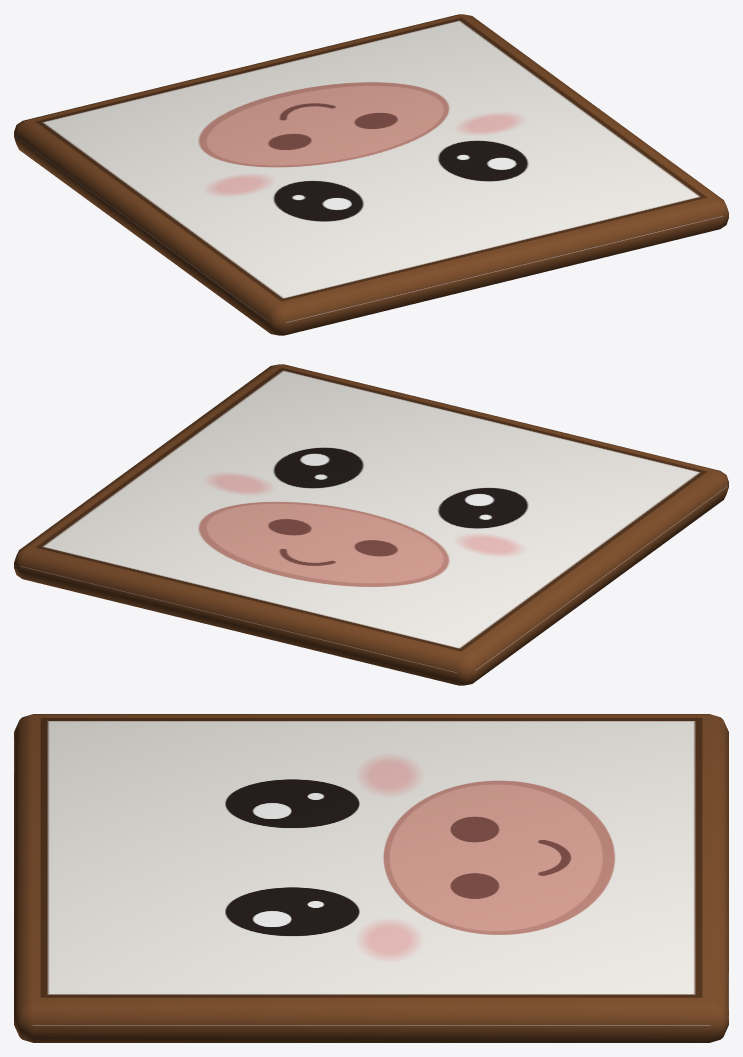
File: CowGate_Tile.fbx
3 views of the same model, one above another, from view 1: azimuth 30°, elevation 25°; view 2: azimuth 150°, elevation 25°; view 3: azimuth 270°, elevation 25° (orthographic). The views are drawn at different scales.
Parts seen in each view (by area): view 1: CowGate_Tile; view 2: CowGate_Tile; view 3: CowGate_Tile.
Boxes of the visible parts, x1,y1,x2,y2 form: CowGate_Tile: (14, 14, 728, 335); CowGate_Tile: (14, 364, 728, 685); CowGate_Tile: (14, 714, 728, 1042).
Bounding box in the file's own units: 0.94 × 0.06 × 0.94.
Materials: 1 (1 with a texture image).
